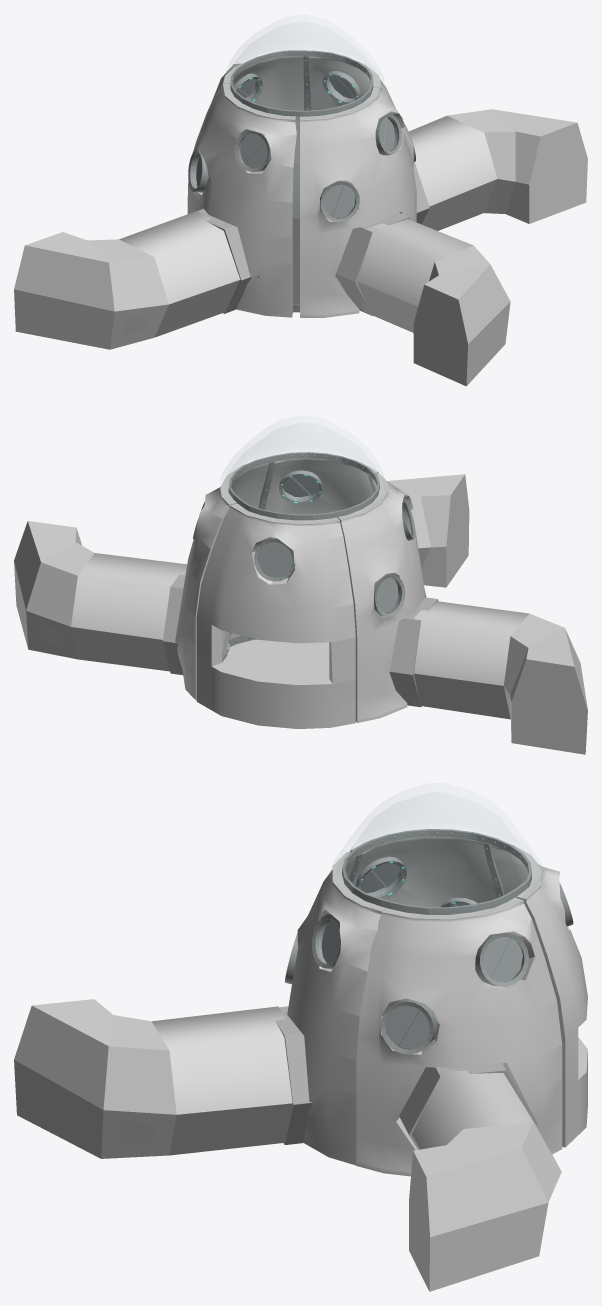
File: space_ship.fbx
The picture shows the model from 3 angles, top to bottom: view 1: azimuth 30°, elevation 25°; view 2: azimuth 150°, elevation 25°; view 3: azimuth 270°, elevation 25°; orthographic projection. The views are drawn at different scales.
Parts seen in each view (by area): view 1: wall_scetion_03 (×2), hall_01, hall_03, hall_02, frame (×3), wall_scetion_01, sky_dome, vent_frame (×4), wall_scetion_02, H_beam_03, environemnt_assets:vent_frame, vent_door_bottom (+2 smaller); view 2: wall_scetion_01, hall_01, hall_03, wall_scetion_03 (×2), hall_02, wall_scetion_02, frame (×2), floor, sky_dome, vent_frame (×3), W_beam_3, W_beam_1 (+2 smaller); view 3: hall_02, wall_scetion_02, hall_03, wall_scetion_03 (×2), wall_scetion_01, sky_dome, frame (×2), vent_frame (×3), W_beam_0, environemnt_assets:vent_frame, W_beam_2, vent_door_top (+2 smaller).
Boxes of the visible parts, x1,y1,x2,y2 form: wall_scetion_03 (×2): (187, 84, 416, 317); hall_01: (14, 211, 240, 349); hall_03: (409, 109, 587, 230); hall_02: (357, 219, 510, 386); frame (×3): (198, 162, 429, 315); wall_scetion_01: (194, 56, 304, 147); sky_dome: (232, 22, 376, 73); vent_frame (×4): (188, 113, 402, 222); wall_scetion_02: (309, 56, 416, 221); H_beam_03: (293, 116, 299, 312); environemnt_assets:vent_frame: (322, 71, 360, 104); vent_door_bottom: (331, 185, 355, 218); wall_scetion_01: (196, 503, 355, 728); hall_01: (412, 601, 587, 754); hall_03: (14, 521, 187, 671); wall_scetion_03 (×2): (265, 458, 426, 722); hall_02: (387, 474, 469, 587); wall_scetion_02: (175, 463, 269, 699); frame (×2): (162, 574, 438, 707); floor: (222, 639, 329, 679); sky_dome: (226, 423, 376, 476); vent_frame (×3): (254, 470, 405, 616); W_beam_3: (245, 504, 346, 520); W_beam_1: (275, 452, 370, 473); hall_02: (14, 999, 292, 1158); wall_scetion_02: (356, 897, 562, 1176); hall_03: (409, 1070, 561, 1291); wall_scetion_03 (×2): (287, 836, 496, 1165); wall_scetion_01: (490, 843, 587, 1147); sky_dome: (338, 792, 536, 867); frame (×2): (275, 1006, 537, 1149); vent_frame (×3): (312, 856, 437, 1054); W_beam_0: (381, 894, 508, 914); environemnt_assets:vent_frame: (475, 932, 528, 986); W_beam_2: (356, 829, 477, 854); vent_door_top: (385, 1005, 419, 1046).
Bounding box in the file's own units: 620 × 264 × 420.
